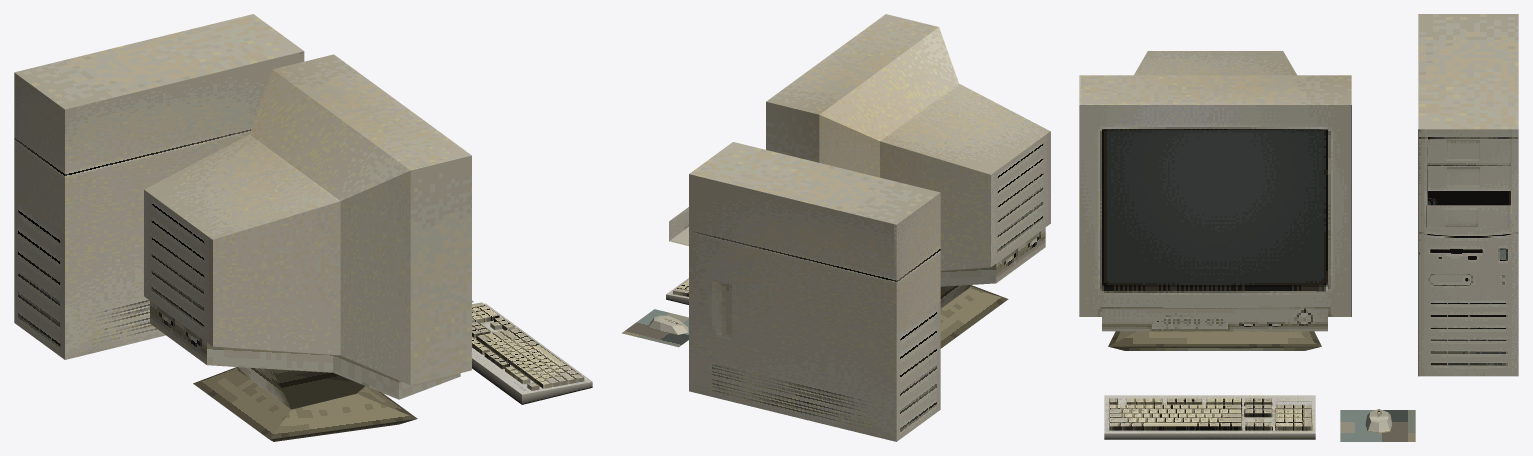
3 views of the same model, side by side, from view 1: azimuth 30°, elevation 25°; view 2: azimuth 150°, elevation 25°; view 3: azimuth 270°, elevation 25° (orthographic). The views are drawn at different scales.
Visible parts, largest first — view 1: monitor, tower, keyboard; view 2: tower, monitor, mouse; view 3: monitor, tower, keyboard, mouse.
Part boxes in pixels (box(x1,y1,x2,y2)): monitor: box(144, 54, 471, 441); tower: box(14, 14, 304, 359); keyboard: box(472, 302, 592, 404); tower: box(669, 142, 940, 441); monitor: box(766, 14, 1050, 348); mouse: box(622, 309, 688, 347); monitor: box(1079, 51, 1351, 350); tower: box(1418, 14, 1518, 376); keyboard: box(1104, 395, 1315, 439); mouse: box(1340, 409, 1415, 441).
Size of the model in its own units: 3.09 by 2.21 by 3.22.
1 material, 1 textured.
